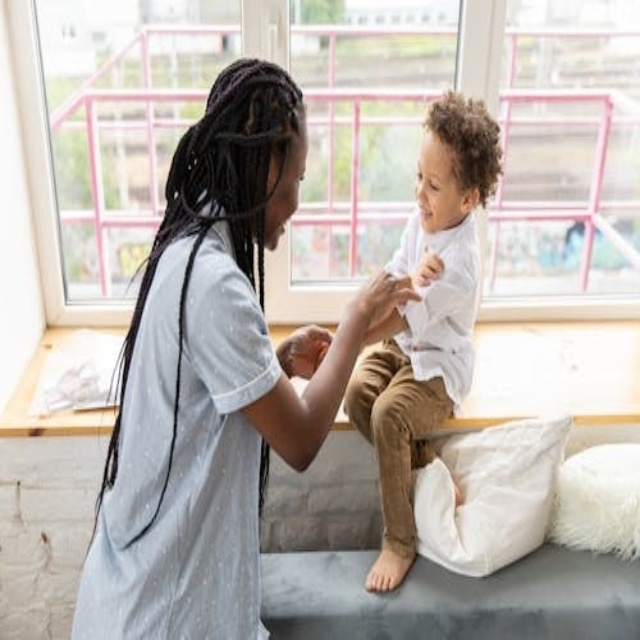Sin_gafas: (415, 154, 452, 206), (278, 158, 311, 190)
Sin_guantes: (349, 261, 422, 342)
Sin_mascara: (269, 206, 297, 259), (413, 202, 442, 227)
